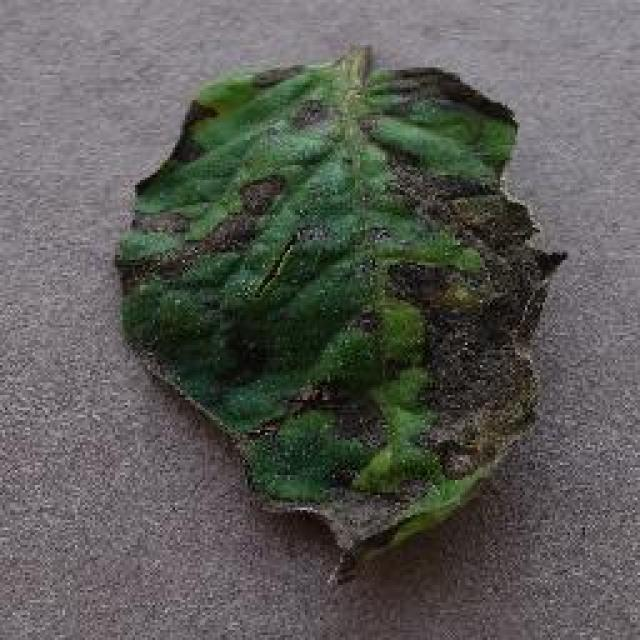Tomato___Early_blight: (119, 41, 573, 589)
